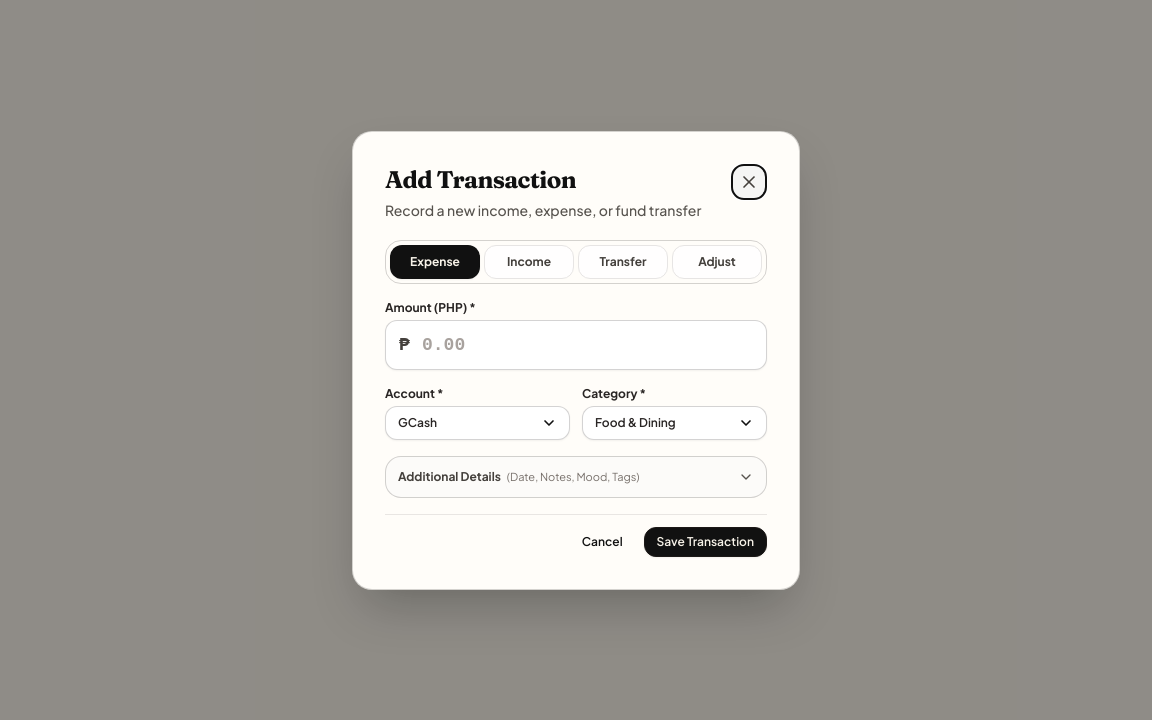
Test: TransactionFormModal Component (TDD) › Note Autocomplete Suggestions › supports keyboard navigation with ArrowDown and Enter to select suggestion
Replace the text in the dropdown with test id "transaction-notes-input" with "ramen" at (576, 476), box [385,456,767,498]
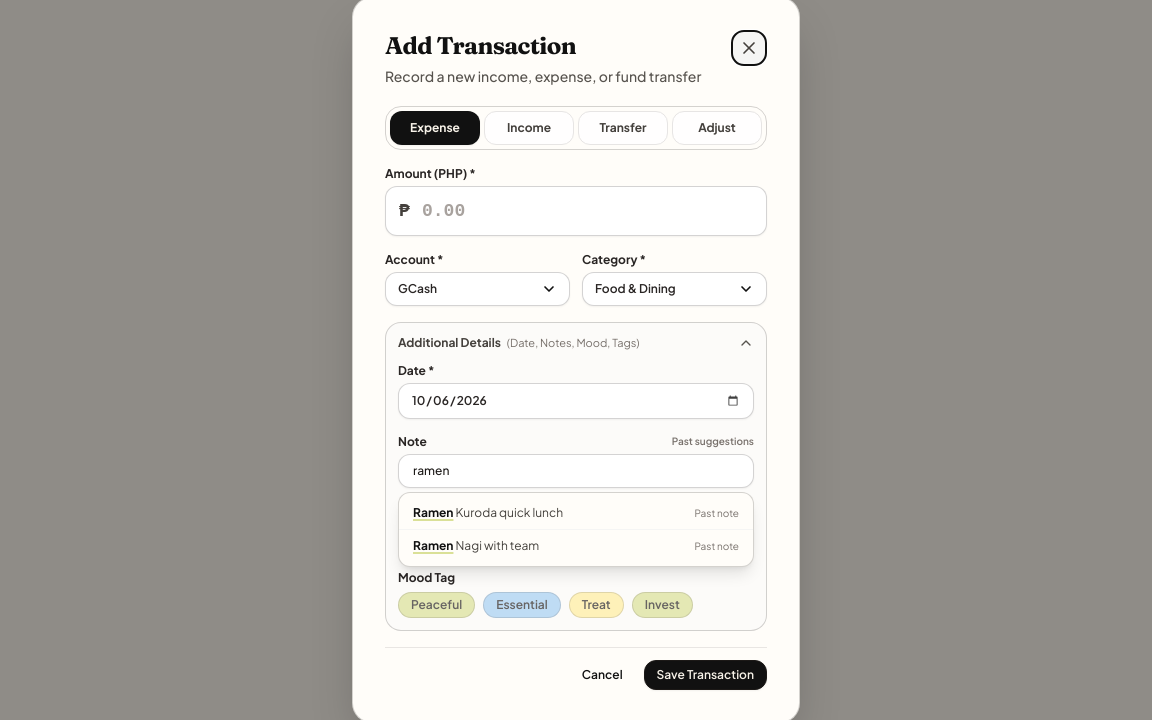
hist-2 is from 2026-10-02 (more recent than hist-1 2026-10-01), so index 0 is Kuroda
Press ArrowDown in the dropdown with test id "transaction-notes-input", box [398,454,754,488]
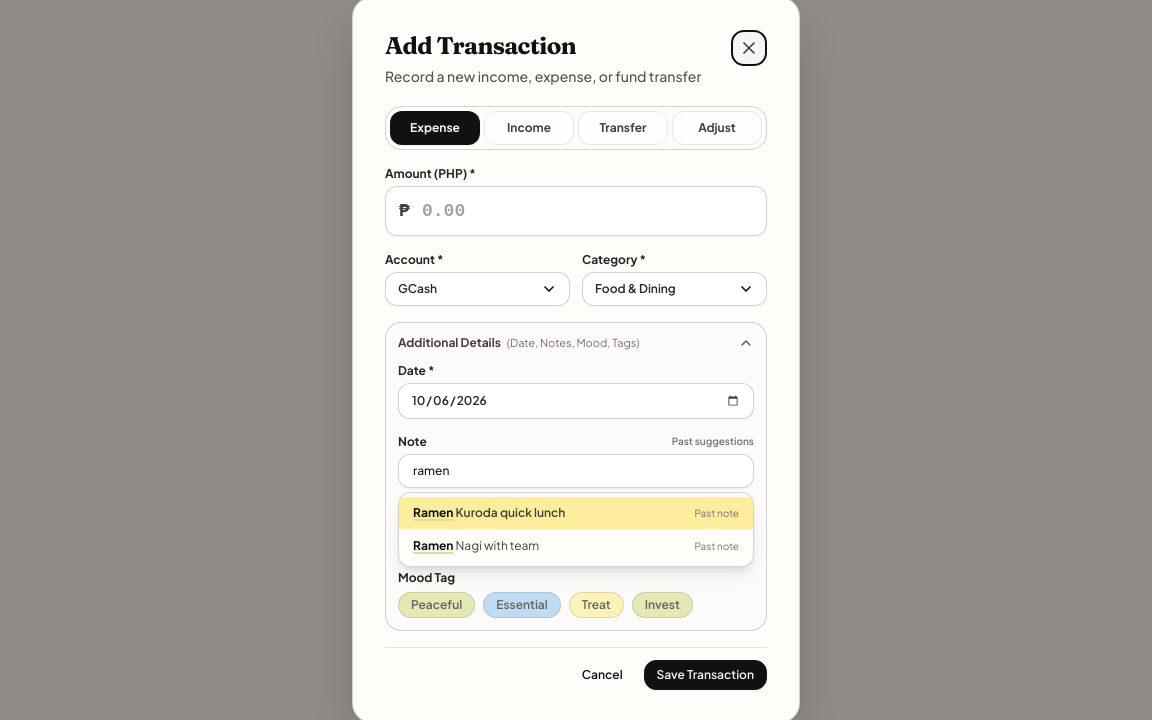
Press Enter in the dropdown with test id "transaction-notes-input", box [398,454,754,488]
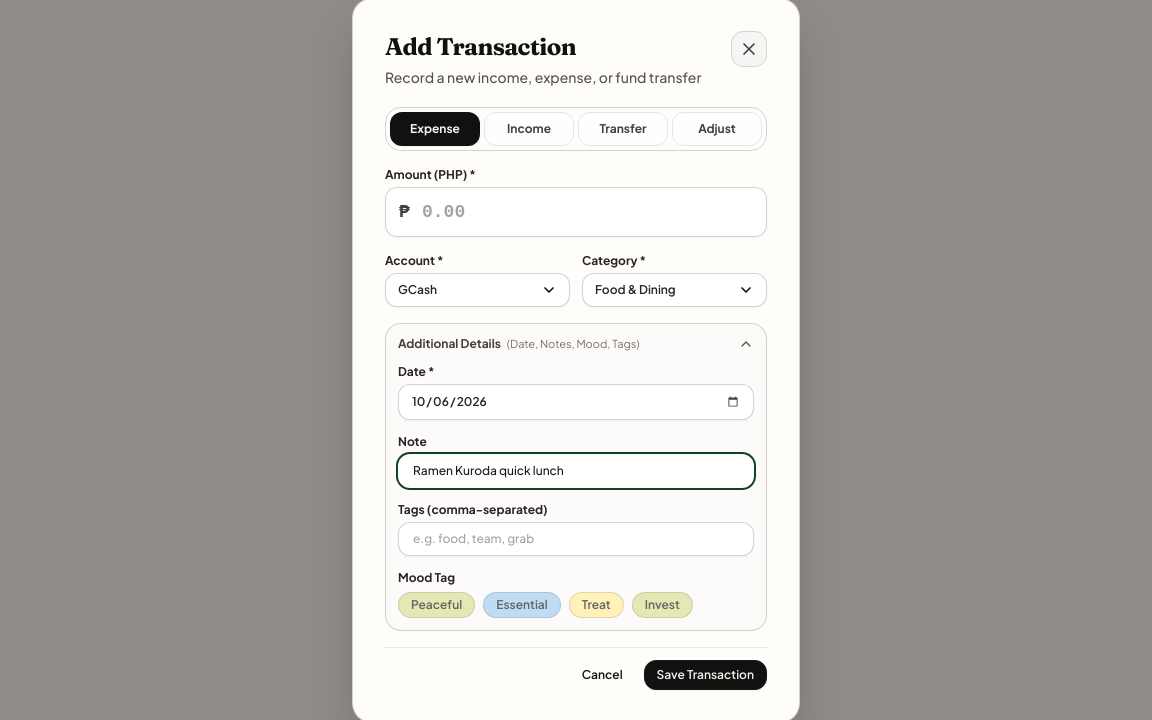
expect the dropdown with test id "transaction-notes-input" holds "Ramen Kuroda quick lunch": met, box [398,454,754,488]
expect the list with test id "note-suggestions-dropdown" is gone: met
